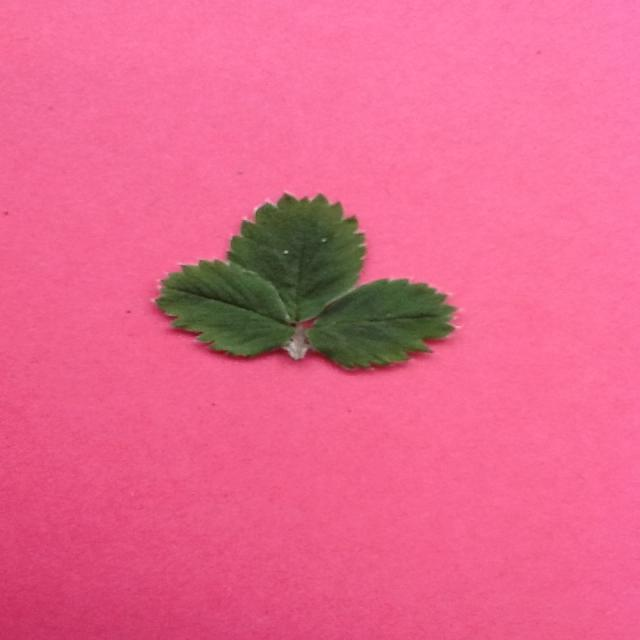foliage: (142, 191, 460, 377)
